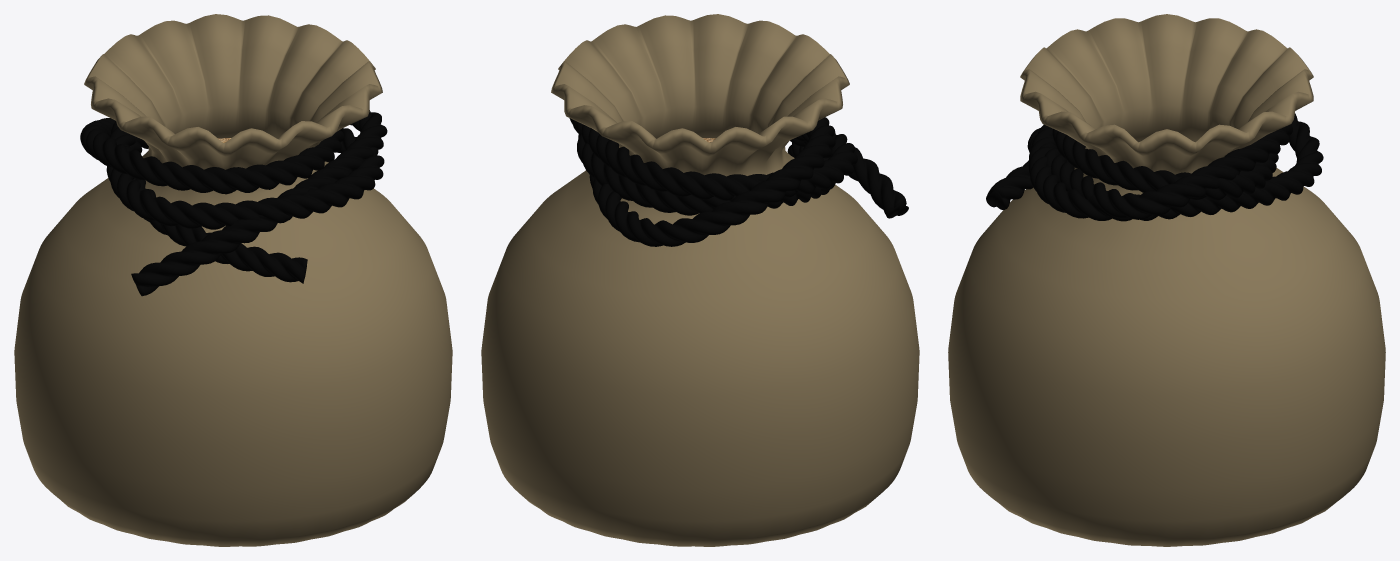
The model's file is seed bag.fbx.
3 views of the same model, side by side, from view 1: azimuth 30°, elevation 25°; view 2: azimuth 150°, elevation 25°; view 3: azimuth 270°, elevation 25° (orthographic).
Parts seen in each view (by area): view 1: Cylinder.002, Circle.001; view 2: Cylinder.002, Circle.001; view 3: Cylinder.002, Circle.001.
Part boxes in pixels (x1=…): Cylinder.002: x1=14, y1=14, x2=452, y2=546; Circle.001: x1=80, y1=110, x2=387, y2=296; Cylinder.002: x1=481, y1=14, x2=919, y2=546; Circle.001: x1=569, y1=117, x2=908, y2=246; Cylinder.002: x1=948, y1=14, x2=1385, y2=546; Circle.001: x1=986, y1=113, x2=1323, y2=221.
Bounding box in the file's own units: 164 × 165 × 164.
